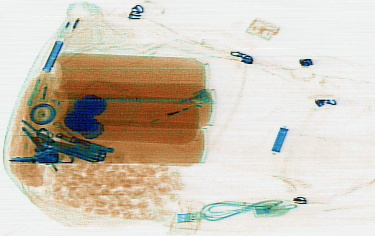lighter: (126, 86, 212, 135)
